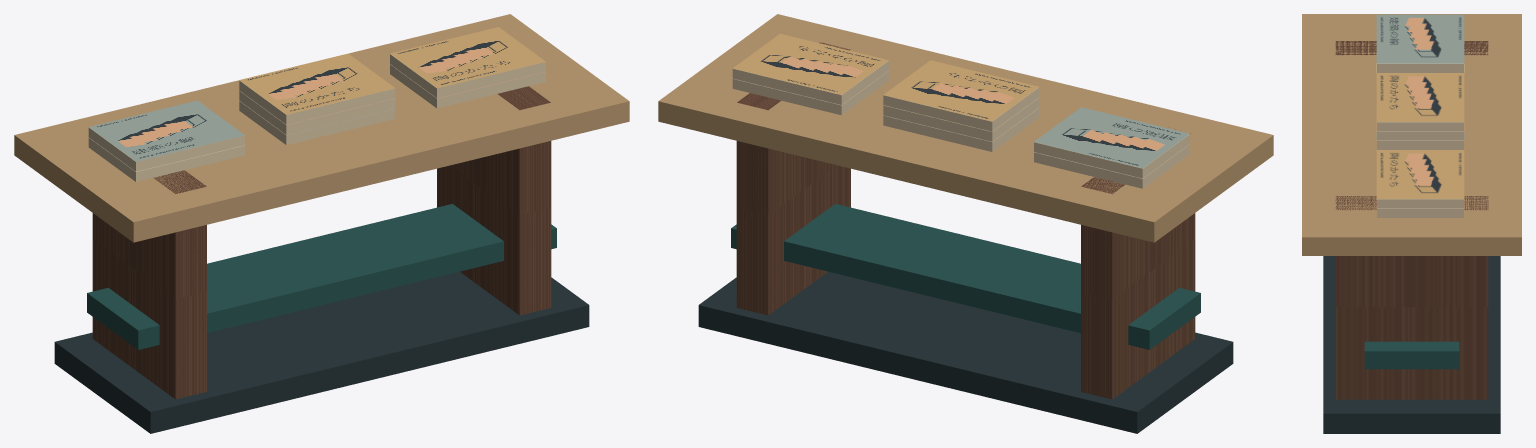
The model's file is orienne_atelier_island.glb.
The picture shows the model from 3 angles, left to right: view 1: azimuth 30°, elevation 25°; view 2: azimuth 150°, elevation 25°; view 3: azimuth 270°, elevation 25°; orthographic projection. The views are drawn at different scales.
Bounding box in the file's own units: 1.73 × 0.859 × 0.72.
1 material, 1 textured.
